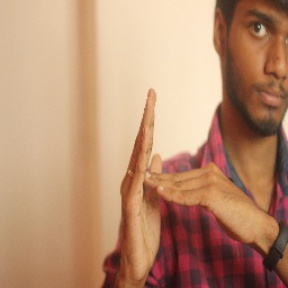Z: (104, 85, 273, 270)
